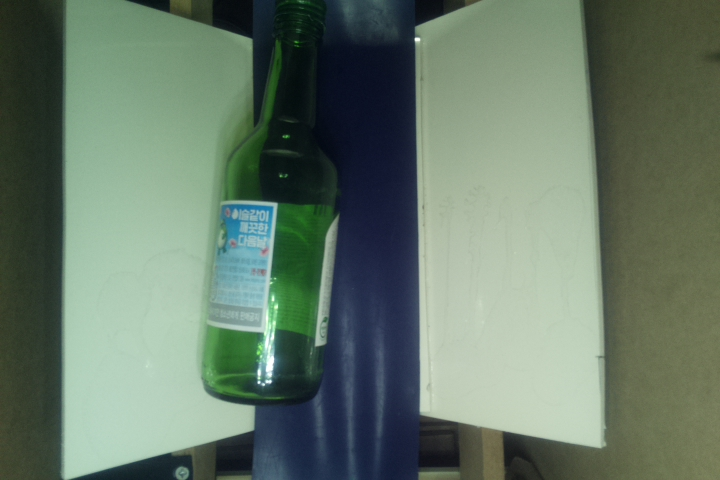soju: (198, 1, 347, 408)
